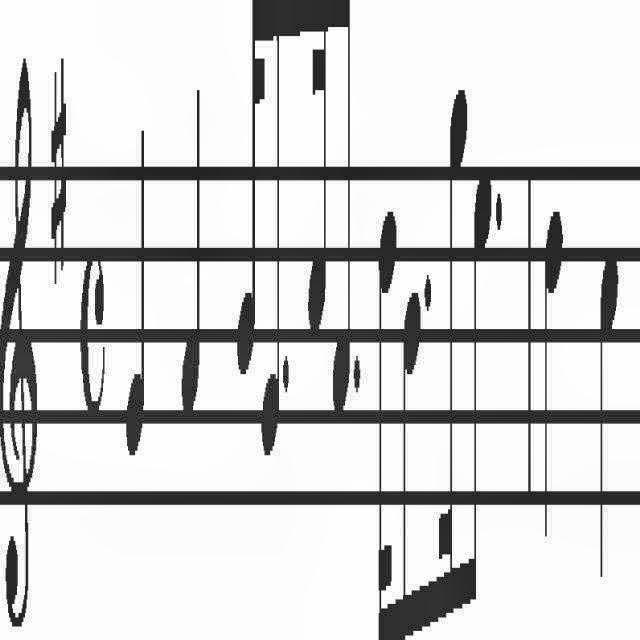Bass-clef: (0, 36, 38, 640)
Diez: (43, 27, 73, 270)
Eighth-note: (260, 0, 280, 468), (331, 0, 353, 424), (472, 154, 490, 624), (400, 256, 420, 640)
Quarter-note: (114, 73, 150, 554), (173, 51, 210, 456), (594, 227, 626, 573), (540, 172, 564, 606)
Sixteenth-note: (441, 67, 469, 628), (230, 0, 266, 388), (372, 189, 396, 639), (299, 0, 328, 324)
